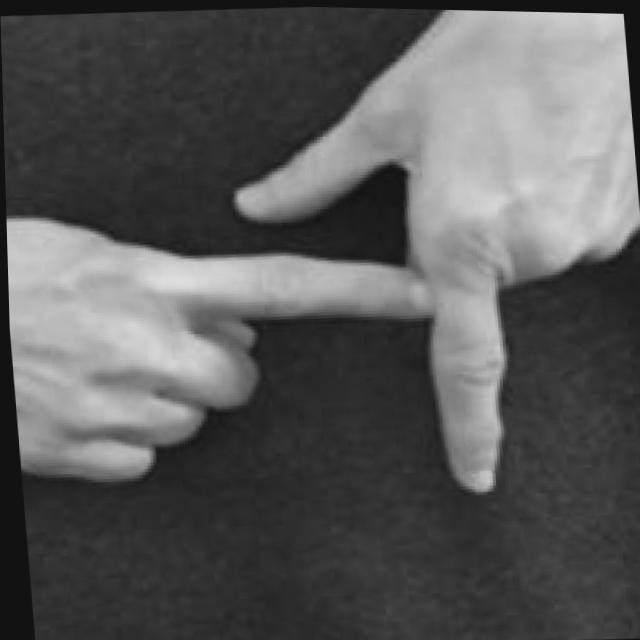F: (0, 0, 640, 525)
